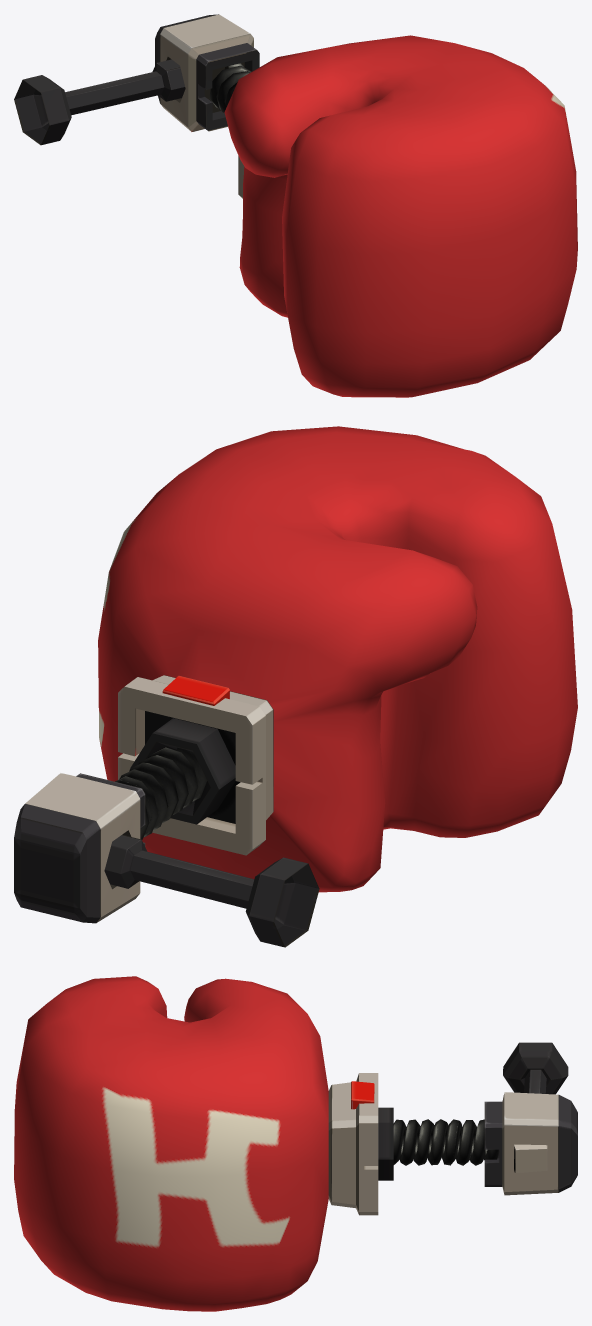
File: Chariot03_quantao02.FBX
The picture shows the model from 3 angles, top to bottom: view 1: azimuth 30°, elevation 25°; view 2: azimuth 150°, elevation 25°; view 3: azimuth 270°, elevation 25°; orthographic projection. The views are drawn at different scales.
Visible parts, largest first — view 1: JiJiaTanHuang_quantao, JiJiaTanHuang_fashehouzuo, JiJiaTanHuang_zhuanzhou, JiJiaTanHuang_xianjie_dizuo, JiJiaTanHuang_tanhuang; view 2: JiJiaTanHuang_quantao, JiJiaTanHuang_fashehouzuo, JiJiaTanHuang_zhuanzhou, JiJiaTanHuang_xianjie_dizuo, JiJiaTanHuang_tanhuang; view 3: JiJiaTanHuang_quantao, JiJiaTanHuang_fashehouzuo, JiJiaTanHuang_tanhuang, JiJiaTanHuang_xianjie_dizuo, JiJiaTanHuang_zhuanzhou.
Part boxes in pixels (bbox=[...]): JiJiaTanHuang_quantao: bbox=[224, 35, 577, 397]; JiJiaTanHuang_fashehouzuo: bbox=[155, 14, 259, 131]; JiJiaTanHuang_zhuanzhou: bbox=[65, 59, 185, 115]; JiJiaTanHuang_xianjie_dizuo: bbox=[14, 75, 71, 145]; JiJiaTanHuang_tanhuang: bbox=[209, 63, 251, 112]; JiJiaTanHuang_quantao: bbox=[98, 426, 577, 892]; JiJiaTanHuang_fashehouzuo: bbox=[14, 773, 145, 923]; JiJiaTanHuang_zhuanzhou: bbox=[104, 834, 254, 908]; JiJiaTanHuang_xianjie_dizuo: bbox=[245, 857, 319, 947]; JiJiaTanHuang_tanhuang: bbox=[115, 747, 207, 839]; JiJiaTanHuang_quantao: bbox=[14, 976, 393, 1311]; JiJiaTanHuang_fashehouzuo: bbox=[484, 1092, 577, 1195]; JiJiaTanHuang_tanhuang: bbox=[393, 1119, 499, 1165]; JiJiaTanHuang_xianjie_dizuo: bbox=[503, 1042, 568, 1094]; JiJiaTanHuang_zhuanzhou: bbox=[524, 1069, 546, 1093].
Bounding box in the file's own units: 2.38 × 1.94 × 3.96.
